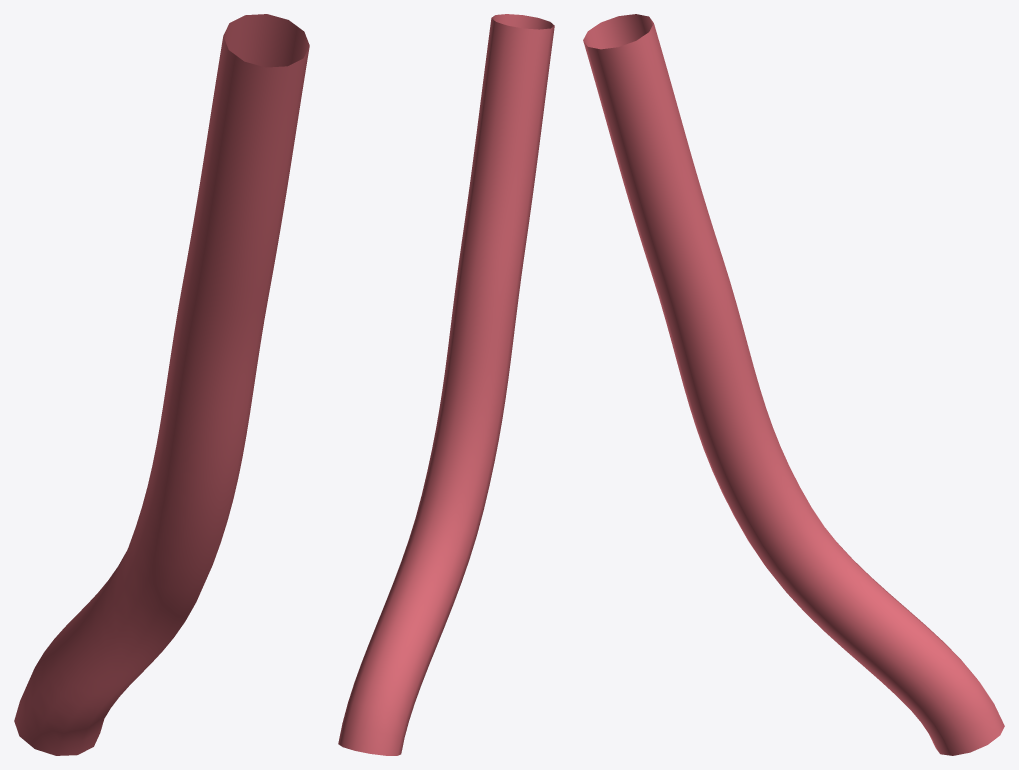
3 views of the same model, side by side, from view 1: azimuth 30°, elevation 25°; view 2: azimuth 150°, elevation 25°; view 3: azimuth 270°, elevation 25° (orthographic). The views are drawn at different scales.
Parts seen in each view (by area): view 1: ZA_1ac6e528d516a345; view 2: ZA_1ac6e528d516a345; view 3: ZA_1ac6e528d516a345.
Boxes of the visible parts, box(x1,y1,x2,y2) form: ZA_1ac6e528d516a345: box(14, 14, 309, 755); ZA_1ac6e528d516a345: box(338, 14, 554, 755); ZA_1ac6e528d516a345: box(583, 14, 1004, 755).
Size of the model in its own units: 0.0022 by 0.024 by 0.0127.
